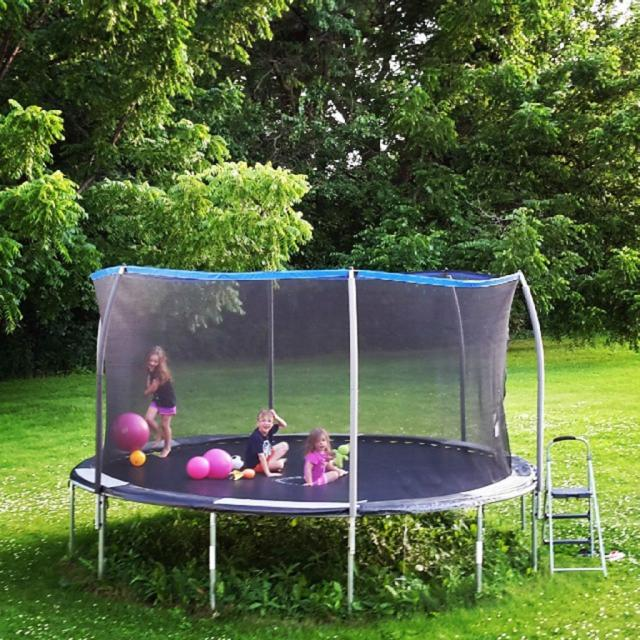Ball: (109, 410, 149, 454), (187, 455, 210, 480), (131, 451, 145, 466)
